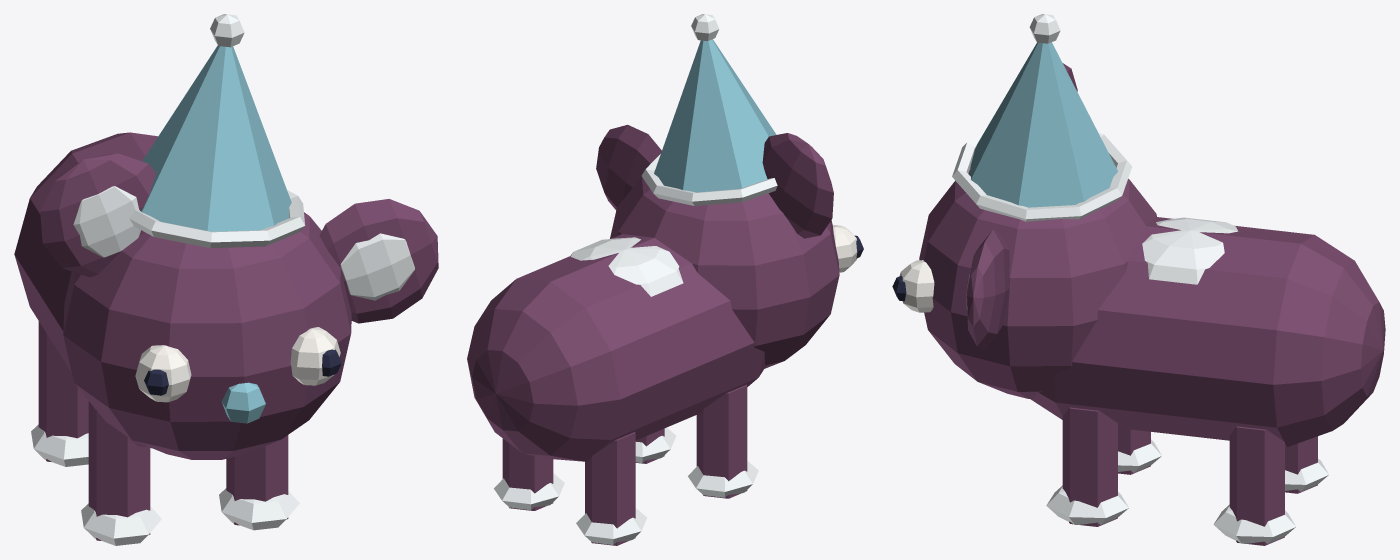
Rendered from bean-space-1.glb.
3 views of the same model, side by side, from view 1: azimuth 30°, elevation 25°; view 2: azimuth 150°, elevation 25°; view 3: azimuth 270°, elevation 25° (orthographic). The views are drawn at different scales.
Visible parts, largest first — view 1: bean-space-1; view 2: bean-space-1; view 3: bean-space-1.
Part boxes in pixels (x1,y1,x2,y2): bean-space-1: (14,14,438,545); bean-space-1: (467,14,863,545); bean-space-1: (892,14,1385,545).
Size of the model in its own units: 0.5481 by 0.8123 by 0.7614.
